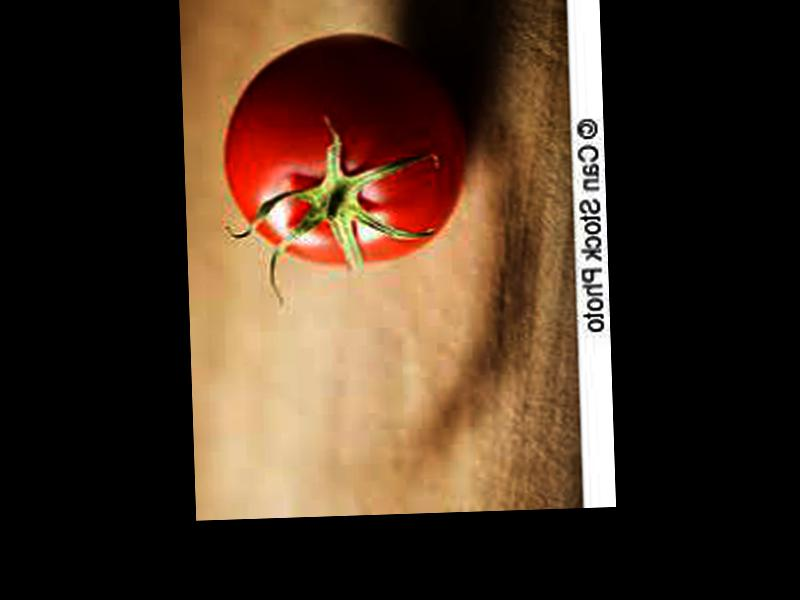Tomato: (224, 32, 467, 271)
